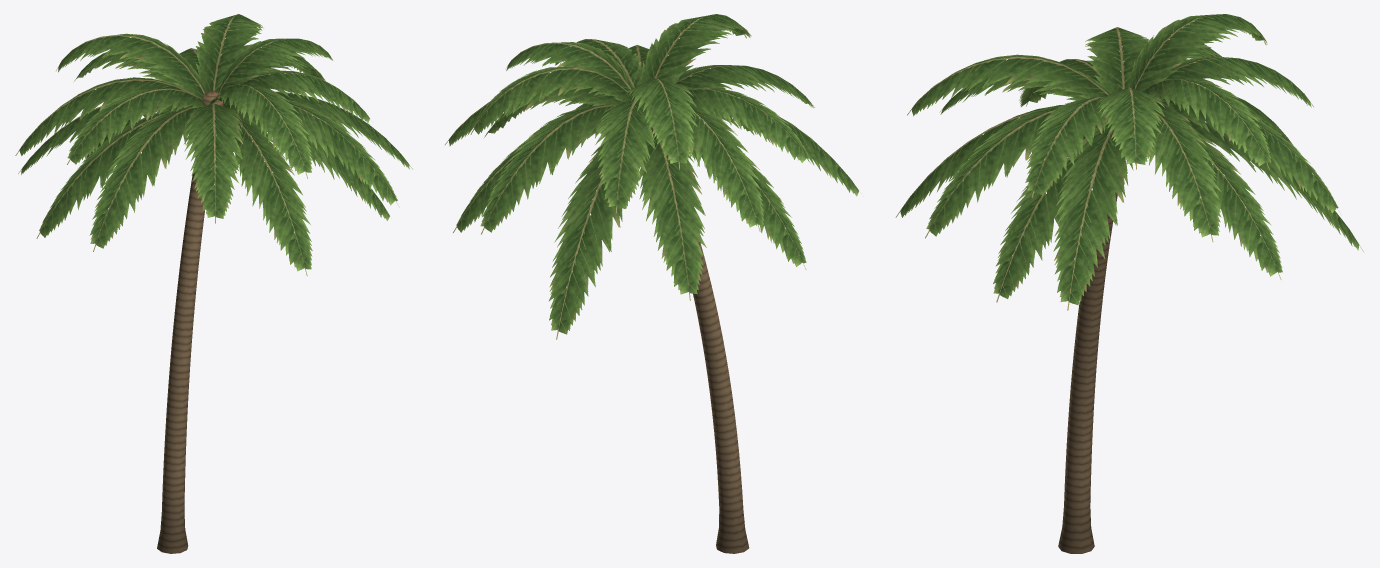
Rendered from coconut_a.glb.
The picture shows the model from 3 angles, left to right: view 1: azimuth 30°, elevation 25°; view 2: azimuth 150°, elevation 25°; view 3: azimuth 270°, elevation 25°; orthographic projection. The views are drawn at different scales.
Parts seen in each view (by area): view 1: leaves, wood; view 2: leaves, wood; view 3: leaves, wood.
Part boxes in pixels (bbox=[...]): leaves: bbox=[15, 14, 412, 276]; wood: bbox=[157, 91, 223, 553]; leaves: bbox=[445, 14, 858, 339]; wood: bbox=[660, 146, 749, 553]; leaves: bbox=[895, 14, 1363, 310]; wood: bbox=[1058, 192, 1117, 553].
Bounding box in the file's own units: 6.67 × 8.71 × 6.95.
Materials: 2 (2 with a texture image).
